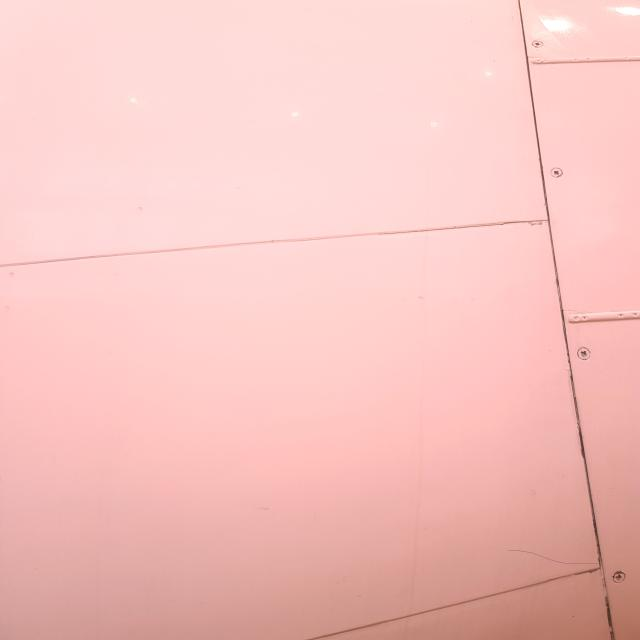Rupture: (498, 541, 605, 571)
